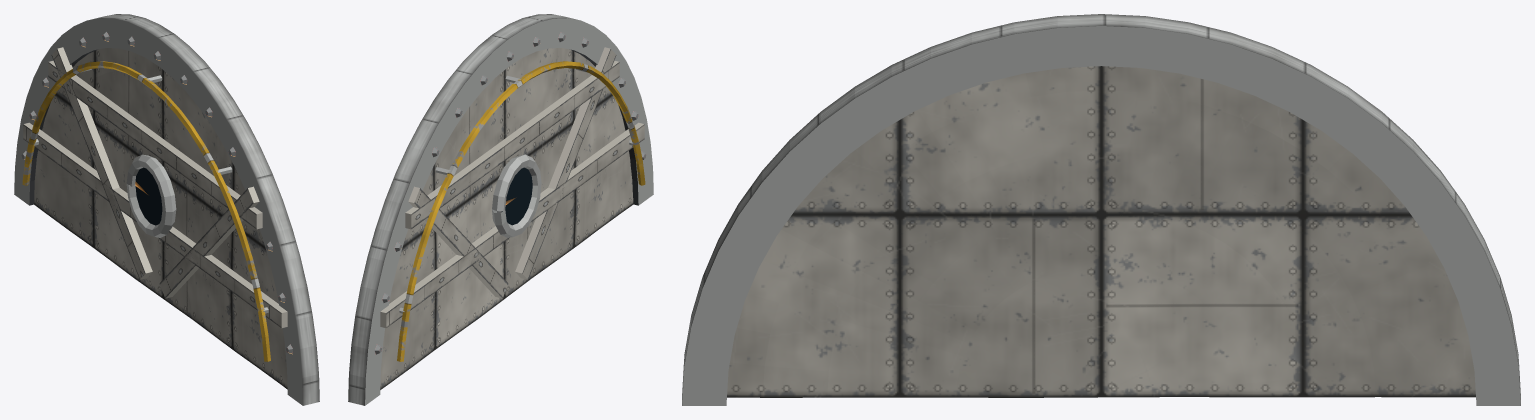
Rendered from hull_endclosed.fbx.
The picture shows the model from 3 angles, left to right: view 1: azimuth 30°, elevation 25°; view 2: azimuth 150°, elevation 25°; view 3: azimuth 270°, elevation 25°; orthographic projection. The views are drawn at different scales.
Visible parts, largest first — view 1: hull_endclosed; view 2: hull_endclosed; view 3: hull_endclosed.
Boxes of the visible parts, x1,y1,x2,y2 form: hull_endclosed: [14, 14, 319, 405]; hull_endclosed: [348, 14, 653, 405]; hull_endclosed: [682, 14, 1520, 405].
Size of the model in its own units: 0.1329 by 1.04 by 2.08.
Materials: 1 (1 with a texture image).
